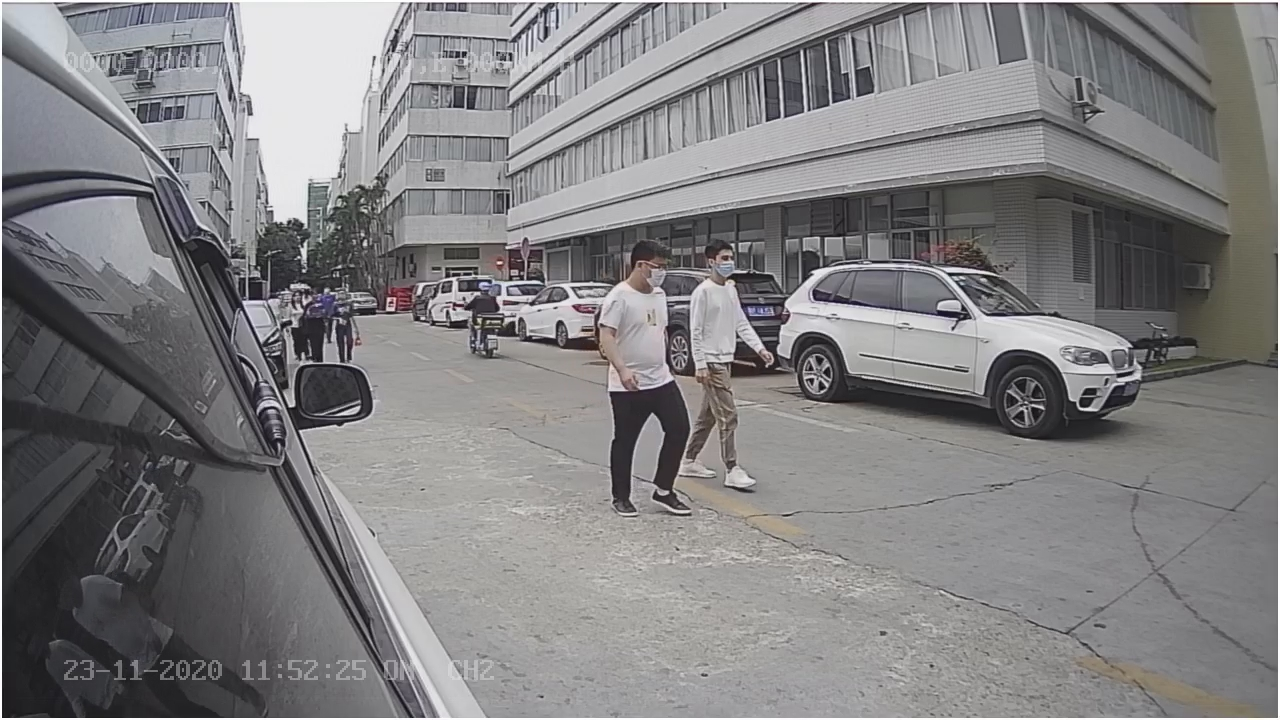person: (598, 232, 685, 519), (685, 233, 764, 482)
